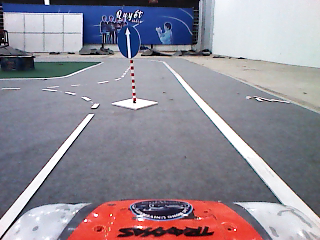straight: (116, 24, 142, 60)
